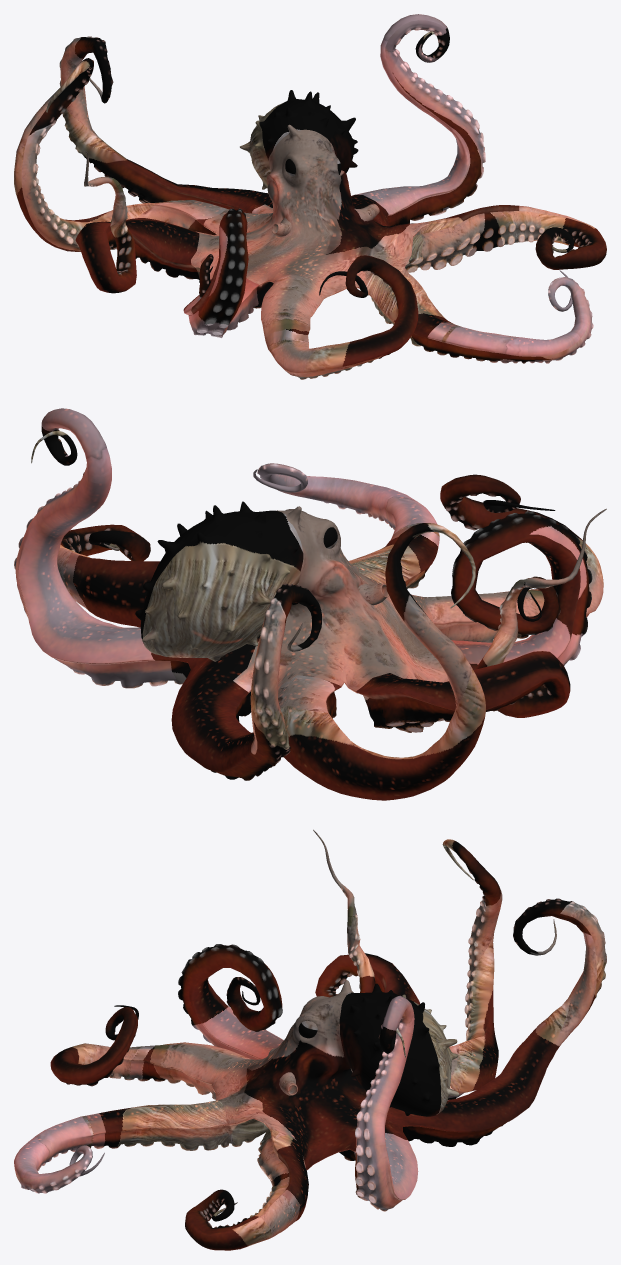
3 views of the same model, one above another, from view 1: azimuth 30°, elevation 25°; view 2: azimuth 150°, elevation 25°; view 3: azimuth 270°, elevation 25° (orthographic). The views are drawn at different scales.
Visible parts, largest first — view 1: octopus.1_1; view 2: octopus.1_1; view 3: octopus.1_1.
Boxes of the visible parts, box(x1,y1,x2,y2) form: octopus.1_1: box(14, 14, 606, 379); octopus.1_1: box(14, 408, 606, 800); octopus.1_1: box(14, 829, 606, 1250).
Bounding box in the file's own units: 0.0778 × 0.0334 × 0.0828.
